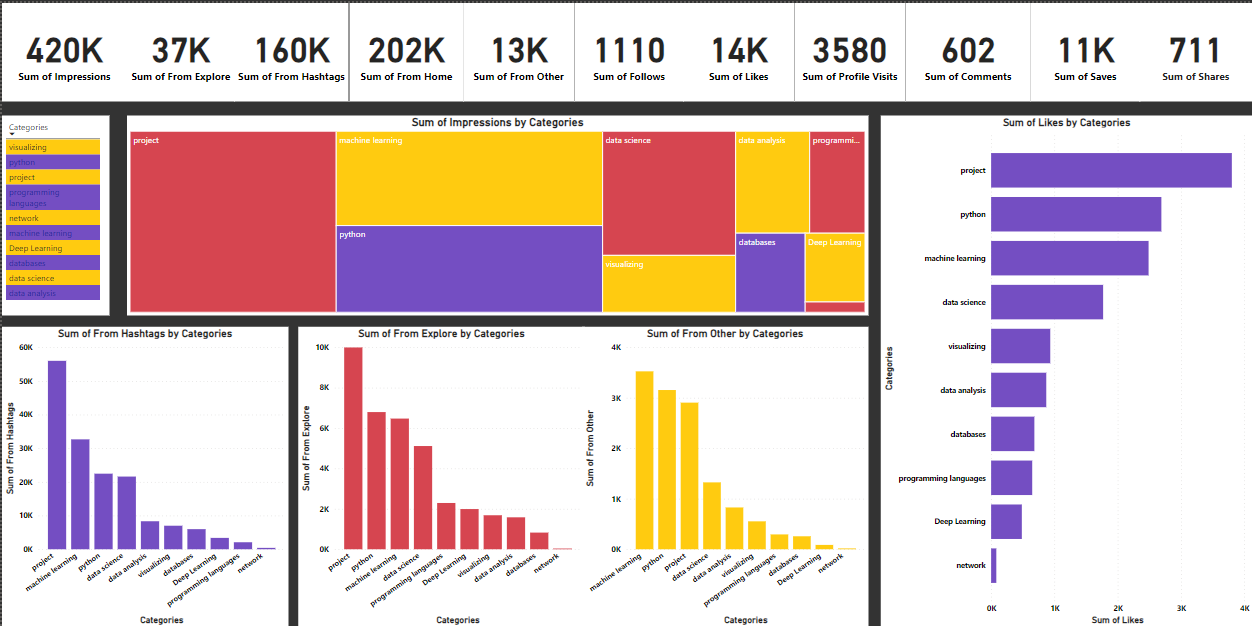

The page's visual inventory and layout, read from the dashboard file:
{"tool":"powerbi","page":{"name":"Page 1","canvas":[2000,1000],"ordinal":0},"visuals":[{"type":"tableEx","fields":{"Values":["Table1.Caption"]},"box":[0,180,172,320],"z":0},{"type":"treemap","fields":{"Group":["Table1.Caption"],"Values":["Sum(Table1.Impressions)"]},"box":[200,180,1186,320],"z":1000},{"type":"clusteredBarChart","fields":{"Category":["Table1.Caption"],"Y":["Sum(Table1.Likes)"]},"box":[1405,180,595,820],"z":2000},{"type":"columnChart","fields":{"Category":["Table1.Caption"],"Y":["Sum(Table1.From Hashtags)"]},"box":[0,518,458,482],"z":3000},{"type":"columnChart","fields":{"Category":["Table1.Caption"],"Y":["Sum(Table1.From Explore)"]},"box":[474,518,458,482],"z":4000},{"type":"card","fields":{"Values":["Sum(Table1.Impressions)"]},"box":[0,0,200,157.5],"z":5000},{"type":"card","fields":{"Values":["Sum(Table1.From Explore)"]},"box":[200,0,172.5,157.5],"z":6000},{"type":"card","fields":{"Values":["Sum(Table1.From Hashtags)"]},"box":[372.5,0,182.5,157.5],"z":7000},{"type":"card","fields":{"Values":["Sum(Table1.From Home)"]},"box":[555,0,182.5,157.5],"z":8000},{"type":"card","fields":{"Values":["Sum(Table1.From Other)"]},"box":[737.5,0,177.5,157.5],"z":9000},{"type":"card","fields":{"Values":["Sum(Table1.Follows)"]},"box":[915,0,175,157.5],"z":10000},{"type":"card","fields":{"Values":["Sum(Table1.Likes)"]},"box":[1090,0,177.5,157.5],"z":11000},{"type":"card","fields":{"Values":["Sum(Table1.Profile Visits)"]},"box":[1267.5,0,177.5,157.5],"z":12000},{"type":"card","fields":{"Values":["Sum(Table1.Comments)"]},"box":[1445,0,200,157.5],"z":13000},{"type":"card","fields":{"Values":["Sum(Table1.Saves)"]},"box":[1645,0,175,157.5],"z":14000},{"type":"card","fields":{"Values":["Sum(Table1.Shares)"]},"box":[1820,0,180,157.5],"z":15000},{"type":"columnChart","fields":{"Category":["Table1.Caption"],"Y":["Sum(Table1.From Other)"]},"box":[928,518,458,482],"z":16000}]}

Visuals, with their boxes in screenshot pixels (x1, y1, x2, y2), scaled from the page's 2000x1000 canvas onto the 1252x626 screenshot:
tableEx - Table1.Caption: [left=0, top=113, right=108, bottom=313]
treemap - Table1.Caption x Sum(Table1.Impressions): [left=125, top=113, right=868, bottom=313]
clusteredBarChart - Table1.Caption x Sum(Table1.Likes): [left=880, top=113, right=1251, bottom=625]
columnChart - Table1.Caption x Sum(Table1.From Hashtags): [left=0, top=324, right=287, bottom=625]
columnChart - Table1.Caption x Sum(Table1.From Explore): [left=297, top=324, right=583, bottom=625]
card - Sum(Table1.Impressions): [left=0, top=0, right=125, bottom=99]
card - Sum(Table1.From Explore): [left=125, top=0, right=233, bottom=99]
card - Sum(Table1.From Hashtags): [left=233, top=0, right=347, bottom=99]
card - Sum(Table1.From Home): [left=347, top=0, right=462, bottom=99]
card - Sum(Table1.From Other): [left=462, top=0, right=573, bottom=99]
card - Sum(Table1.Follows): [left=573, top=0, right=682, bottom=99]
card - Sum(Table1.Likes): [left=682, top=0, right=793, bottom=99]
card - Sum(Table1.Profile Visits): [left=793, top=0, right=905, bottom=99]
card - Sum(Table1.Comments): [left=905, top=0, right=1030, bottom=99]
card - Sum(Table1.Saves): [left=1030, top=0, right=1139, bottom=99]
card - Sum(Table1.Shares): [left=1139, top=0, right=1251, bottom=99]
columnChart - Table1.Caption x Sum(Table1.From Other): [left=581, top=324, right=868, bottom=625]
